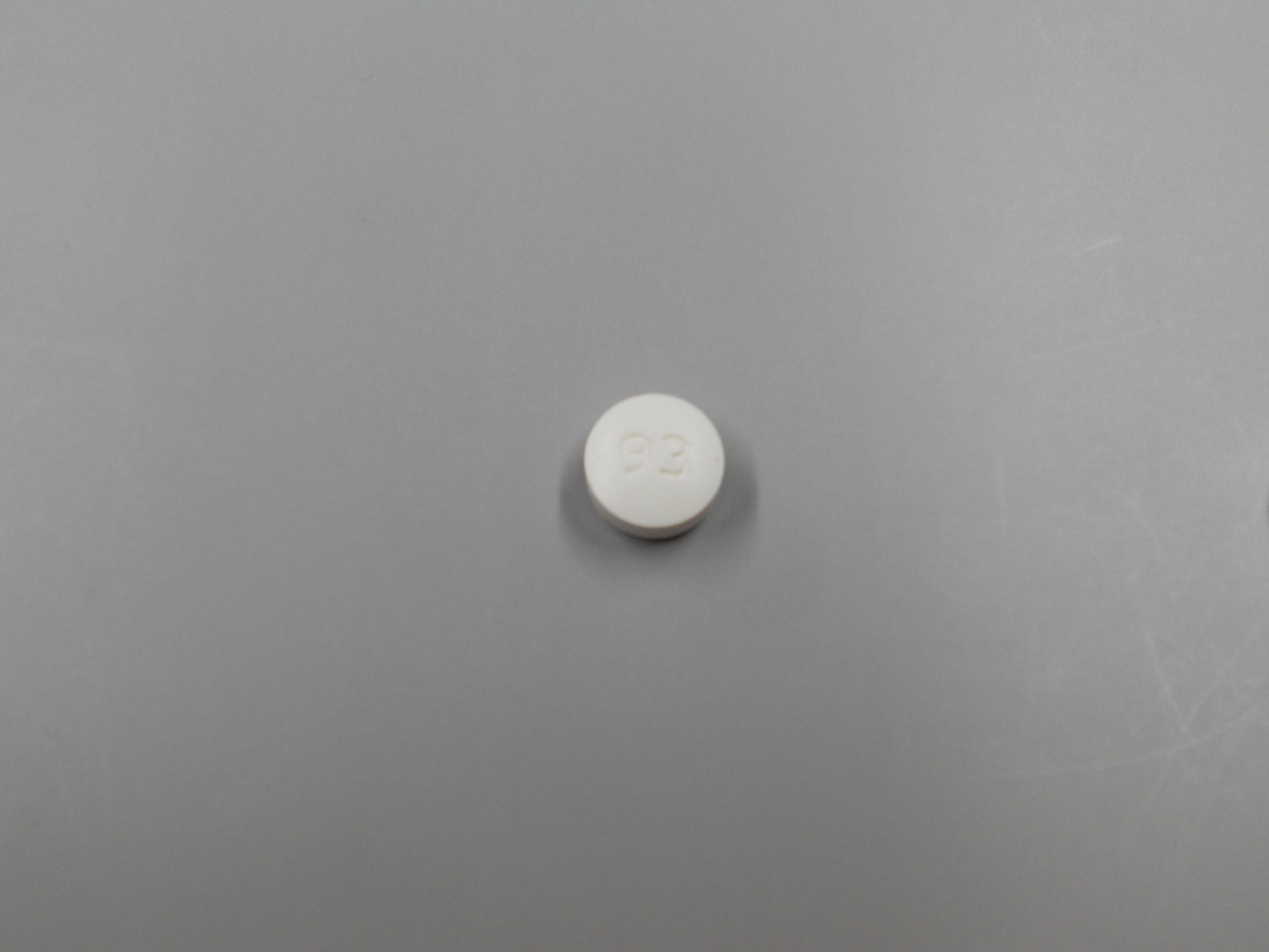Pill: (574, 386, 733, 546)
